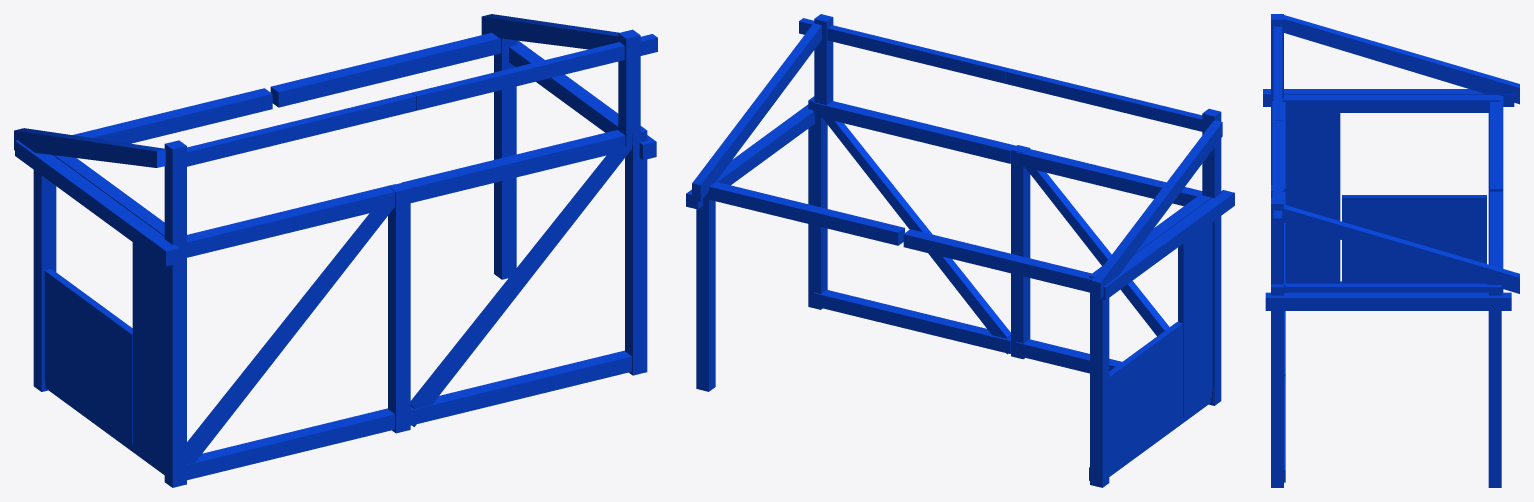
Rendered from Hut_03.fbx.
The picture shows the model from 3 angles, left to right: view 1: azimuth 30°, elevation 25°; view 2: azimuth 150°, elevation 25°; view 3: azimuth 270°, elevation 25°; orthographic projection. The views are drawn at different scales.
Parts seen in each view (by area): view 1: Hut_03; view 2: Hut_03; view 3: Hut_03.
Part boxes in pixels (box(x1,y1,x2,y2)): Hut_03: box(14, 14, 657, 487); Hut_03: box(686, 14, 1234, 487); Hut_03: box(1263, 14, 1519, 487).
Size of the model in its own units: 647 by 420 by 347.
